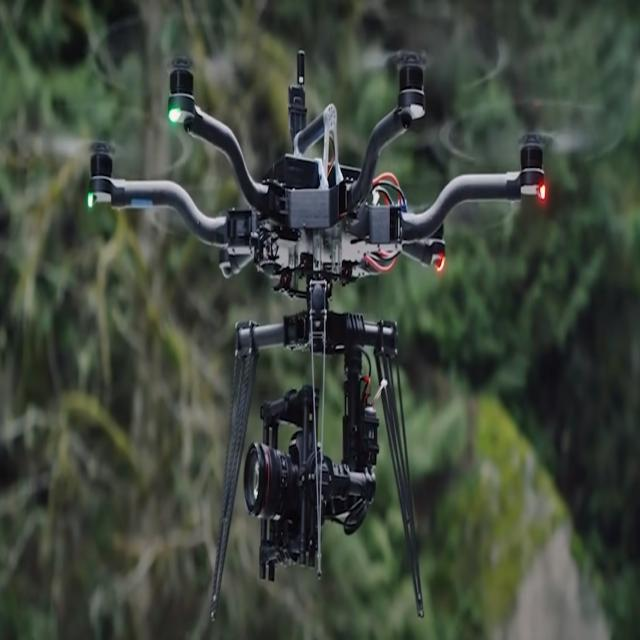drone: (34, 18, 624, 625)
